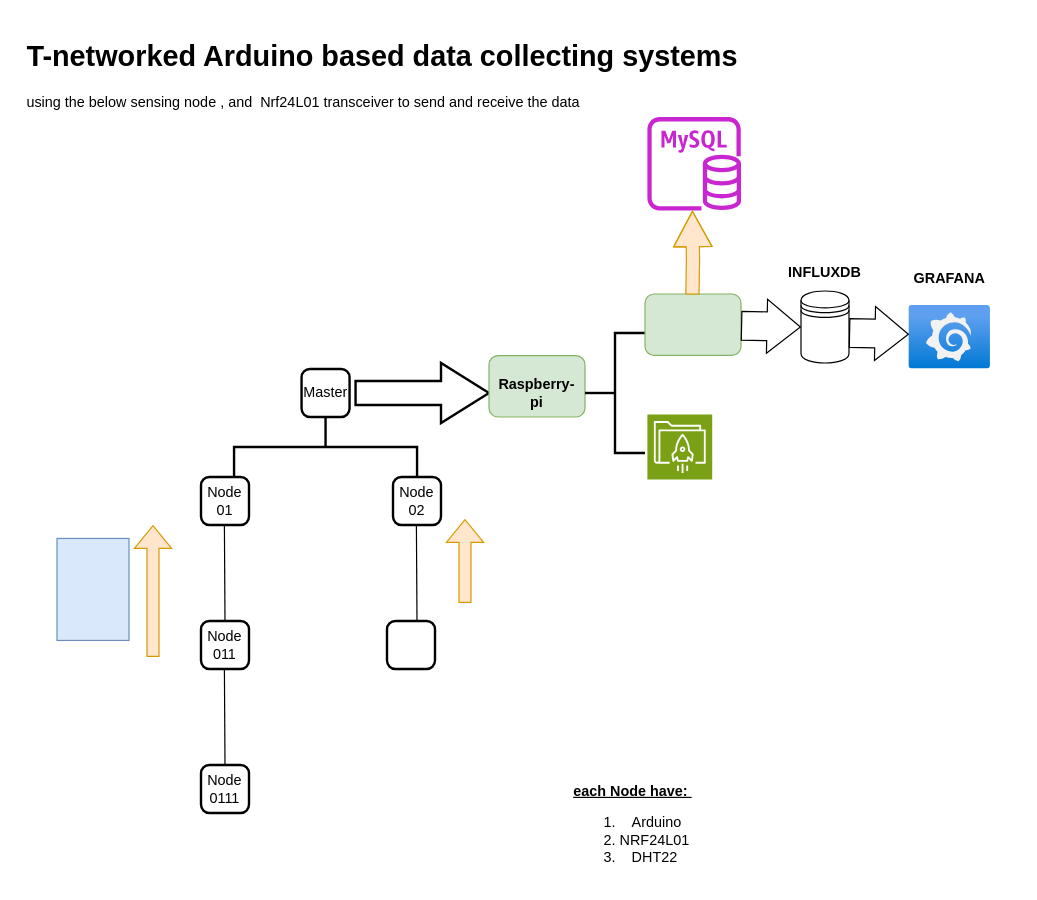
This 1037x900 diagram has some shape labels left out. Here are the shapes that lost their labels. From the top down, the centre of each, then its label:
At pixel 692 324: "NODE-RED".
At pixel 92 588: "Sensory Data Direction".
At pixel 410 644: "Node 012".
